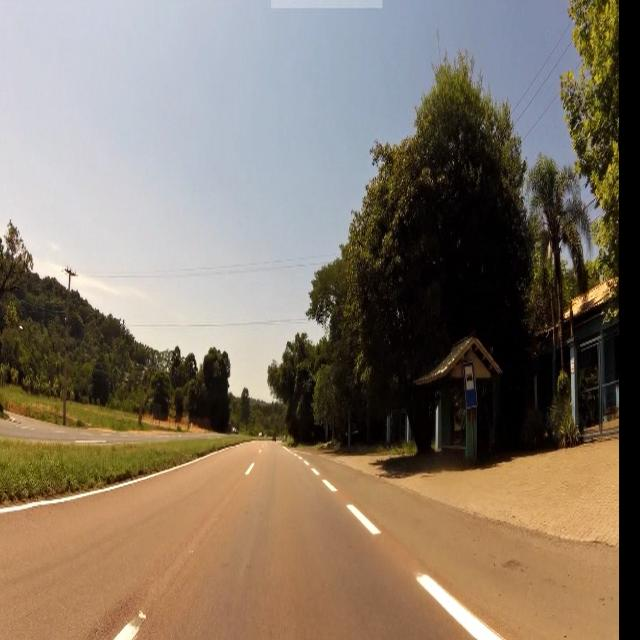S-14: (462, 363, 478, 413)
